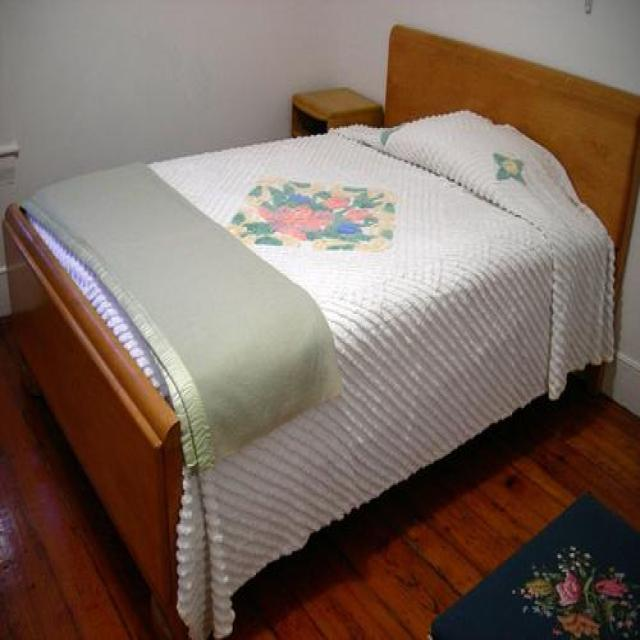bed: (1, 22, 639, 638)
